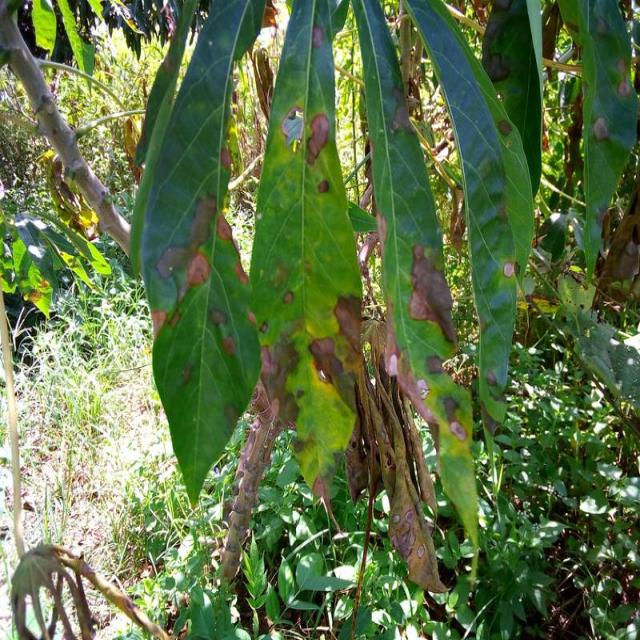cassava leaf: (352, 0, 482, 570), (130, 0, 269, 506), (248, 0, 366, 498), (402, 0, 535, 432)
